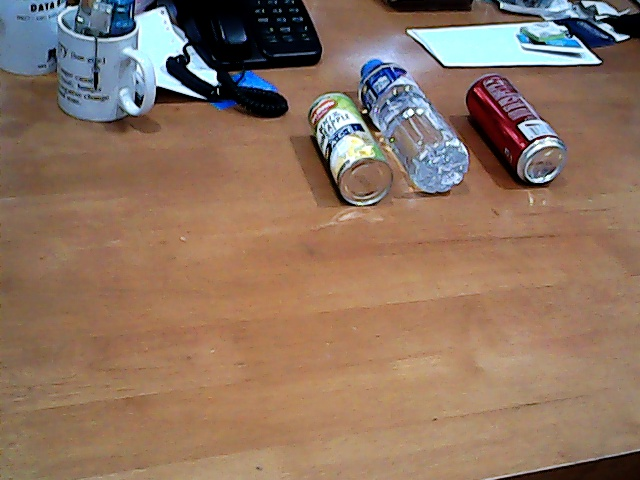Cola: (469, 55, 584, 175)
Pine Juice: (307, 81, 394, 208)
Summit Water: (360, 33, 448, 148)
